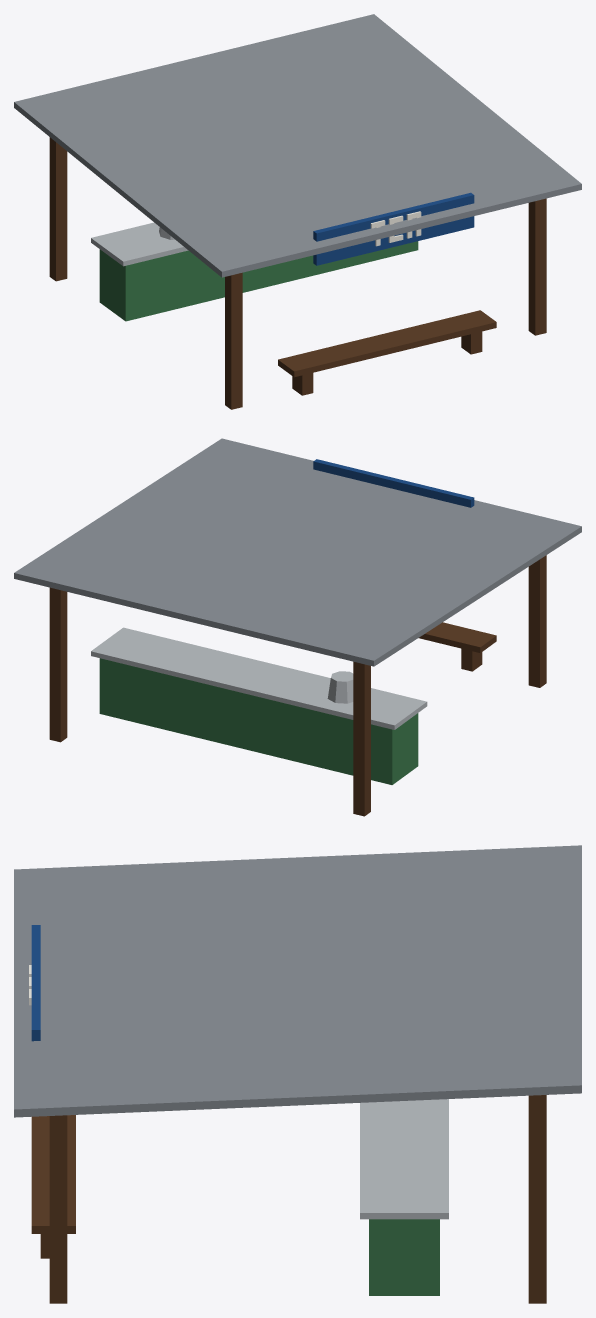
File: bld_cs_teastall.glb
3 views of the same model, one above another, from view 1: azimuth 30°, elevation 25°; view 2: azimuth 150°, elevation 25°; view 3: azimuth 270°, elevation 25° (orthographic). The views are drawn at different scales.
Visible parts, largest first — view 1: bld_cs_teastall; view 2: bld_cs_teastall; view 3: bld_cs_teastall.
Part boxes in pixels (x1,y1,x2,y2): bld_cs_teastall: (14, 14, 581, 409); bld_cs_teastall: (14, 438, 581, 816); bld_cs_teastall: (14, 845, 581, 1303).
Size of what is drawn, in the model's own units: 6.4 by 2.9 by 6.4.
